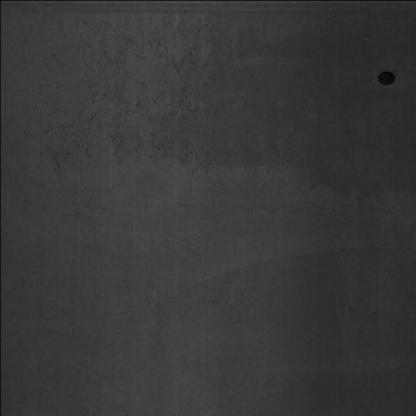punching_hole: (375, 66, 399, 90)
silk_spot: (28, 11, 252, 172)
